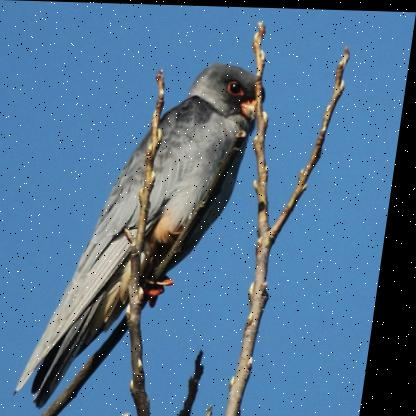Burung: (18, 58, 274, 412)
